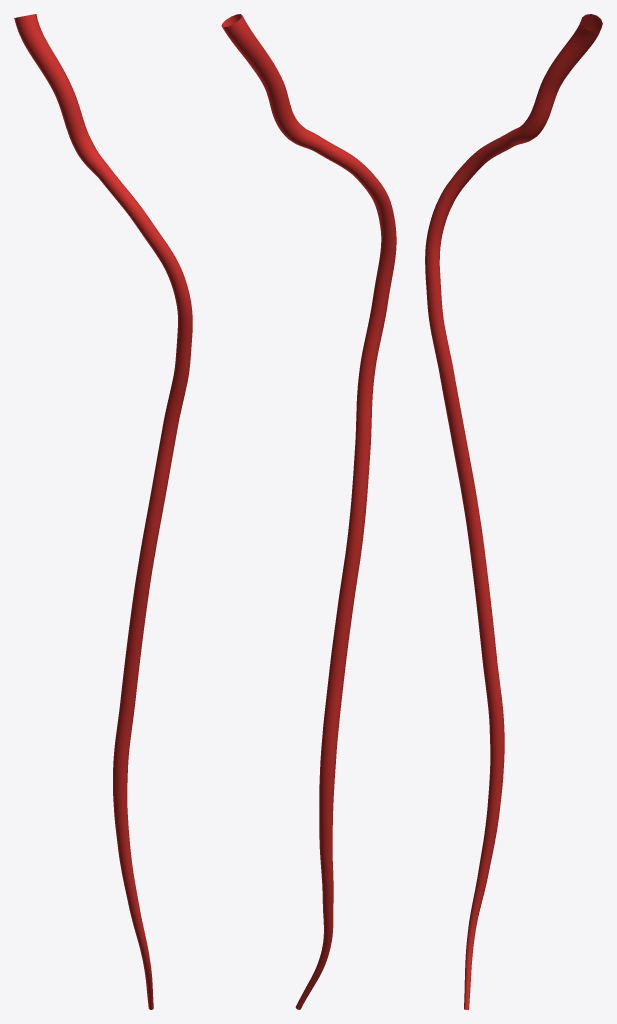
Rendered from circulatorio-anterior-tibial-veins-r.glb.
The picture shows the model from 3 angles, left to right: view 1: azimuth 90°, elevation 25°; view 2: azimuth 150°, elevation 25°; view 3: azimuth 270°, elevation 25°; orthographic projection. The views are drawn at different scales.
Visible parts, largest first — view 1: Anterior tibial veins.r; view 2: Anterior tibial veins.r; view 3: Anterior tibial veins.r.
Part boxes in pixels (box(x1,y1,x2,y2)): Anterior tibial veins.r: box(14, 14, 192, 1009); Anterior tibial veins.r: box(221, 14, 396, 1009); Anterior tibial veins.r: box(425, 14, 602, 1009).
Size of the model in its own units: 0.0268 by 0.2913 by 0.0473.
